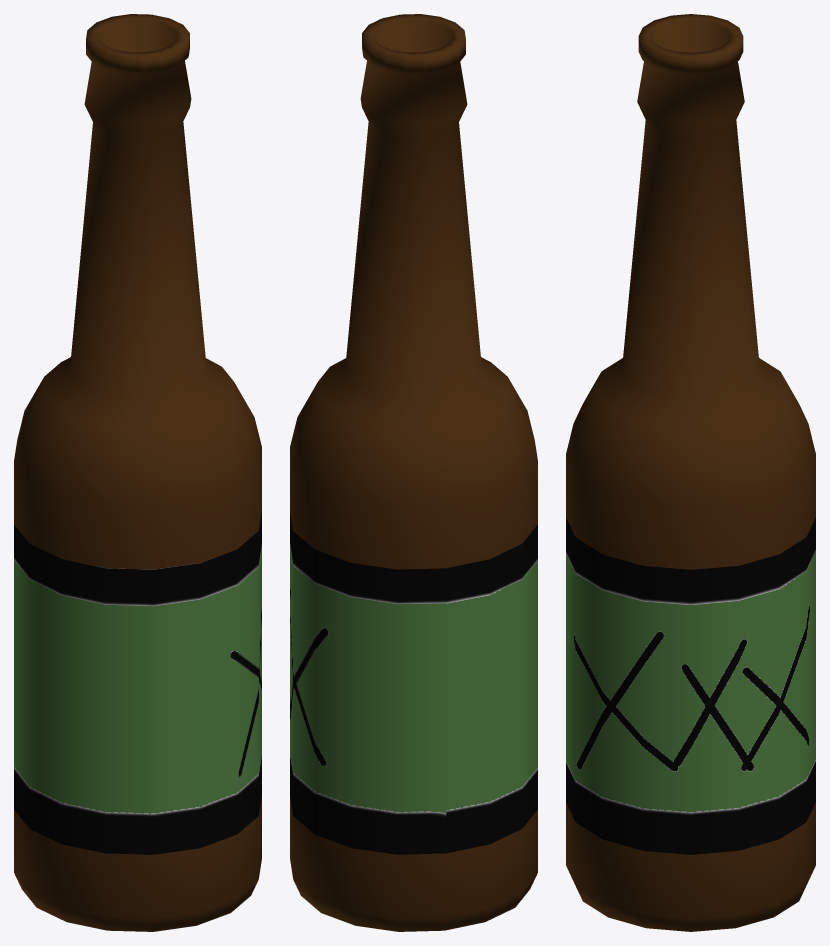
The model's file is BeerBottle.glb.
3 views of the same model, side by side, from view 1: azimuth 30°, elevation 25°; view 2: azimuth 150°, elevation 25°; view 3: azimuth 270°, elevation 25° (orthographic).
Parts seen in each view (by area): view 1: BeerBottle; view 2: BeerBottle; view 3: BeerBottle.
Boxes of the visible parts, <box> form: BeerBottle: <box>14,14,261,931</box>; BeerBottle: <box>290,14,537,931</box>; BeerBottle: <box>566,14,815,931</box>.
Bounding box in the file's own units: 0.1371 × 0.5167 × 0.1371.
2 materials, 1 textured.
